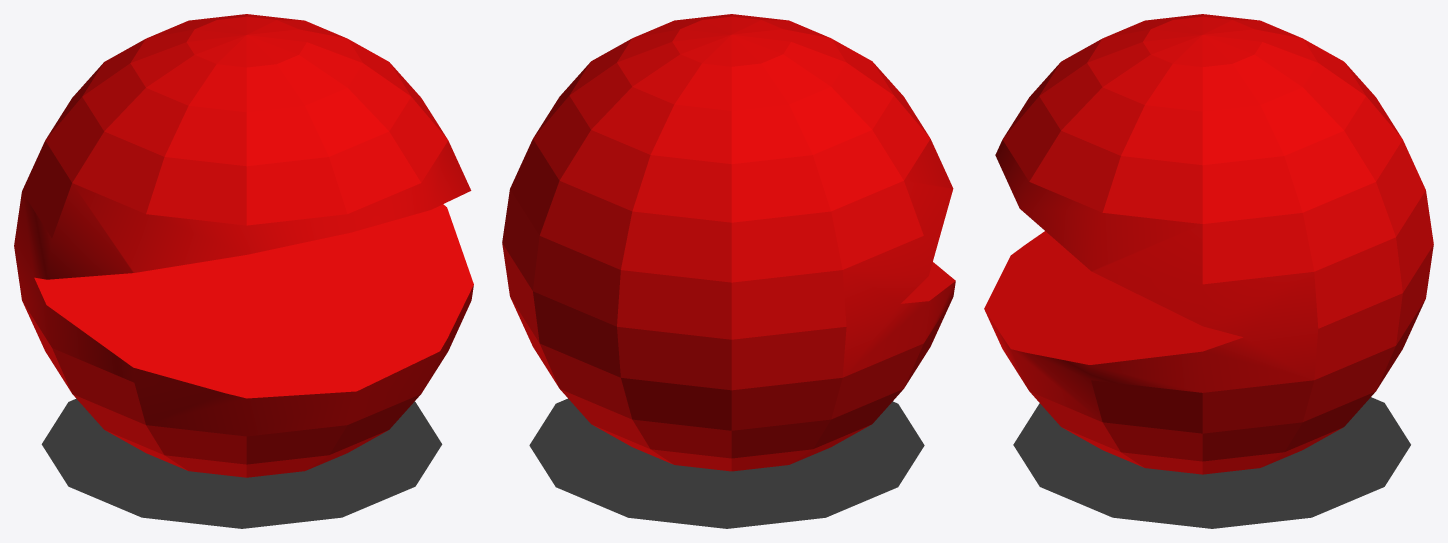
The model's file is Enemy.fbx.
The picture shows the model from 3 angles, left to right: view 1: azimuth 30°, elevation 25°; view 2: azimuth 150°, elevation 25°; view 3: azimuth 270°, elevation 25°; orthographic projection.
Parts seen in each view (by area): view 1: pSphere2, pCylinder1; view 2: pSphere2, pCylinder1; view 3: pSphere2, pCylinder1.
Boxes of the visible parts, x1,y1,x2,y2 form: pSphere2: (14,14,473,477); pCylinder1: (41,398,442,528); pSphere2: (502,14,955,471); pCylinder1: (529,398,924,528); pSphere2: (984,14,1433,474); pCylinder1: (1013,397,1410,528).
Bounding box in the file's own units: 0.5961 × 0.6 × 0.5836.
